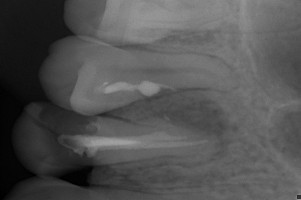Furcation Involvement: (151, 98, 232, 155)
